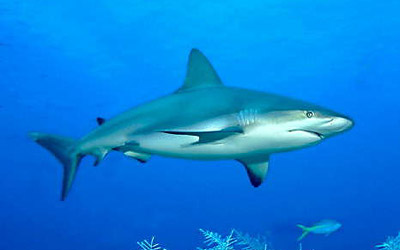Carcharhinus_amblyrhynchos: (19, 41, 361, 206)
